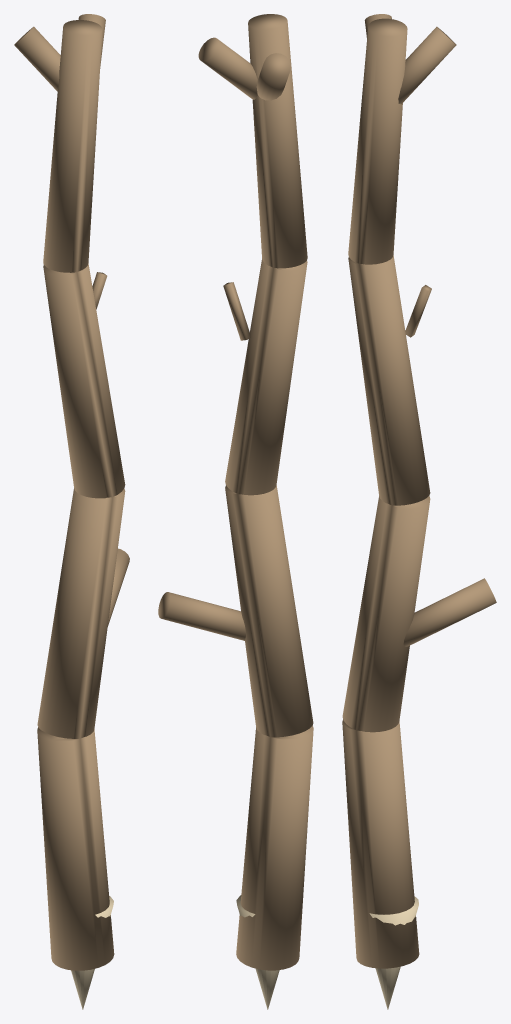
Rendered from stick_2.glb.
The picture shows the model from 3 angles, left to right: view 1: azimuth 30°, elevation 25°; view 2: azimuth 150°, elevation 25°; view 3: azimuth 330°, elevation 25°; orthographic projection.
Visible parts, largest first — view 1: Main_Shaft, Fork_B, Broken_Tip, Side_Branch_1, Bark_Ridge_1, Fork_A; view 2: Main_Shaft, Side_Branch_1, Fork_A, Fork_B, Bark_Ridge_1, Broken_Tip; view 3: Main_Shaft, Side_Branch_1, Fork_A, Broken_Tip, Bark_Ridge_1.
Boxes of the visible parts, box(x1,y1,x2,y2) form: Main_Shaft: box(37, 20, 125, 970); Fork_B: box(14, 26, 60, 91); Broken_Tip: box(71, 895, 113, 1009); Side_Branch_1: box(107, 548, 129, 626); Bark_Ridge_1: box(92, 272, 107, 309); Fork_A: box(78, 14, 105, 68); Main_Shaft: box(225, 14, 313, 970); Side_Branch_1: box(158, 592, 245, 640); Fork_A: box(198, 37, 257, 99); Fork_B: box(256, 53, 290, 100); Bark_Ridge_1: box(223, 282, 250, 340); Broken_Tip: box(236, 895, 279, 1009); Main_Shaft: box(342, 18, 430, 968); Side_Branch_1: box(403, 578, 496, 646); Fork_A: box(398, 26, 456, 104); Broken_Tip: box(369, 896, 418, 1009); Bark_Ridge_1: box(405, 285, 431, 337).
Bounding box in the file's own units: 0.0715 × 0.5508 × 0.0563.
